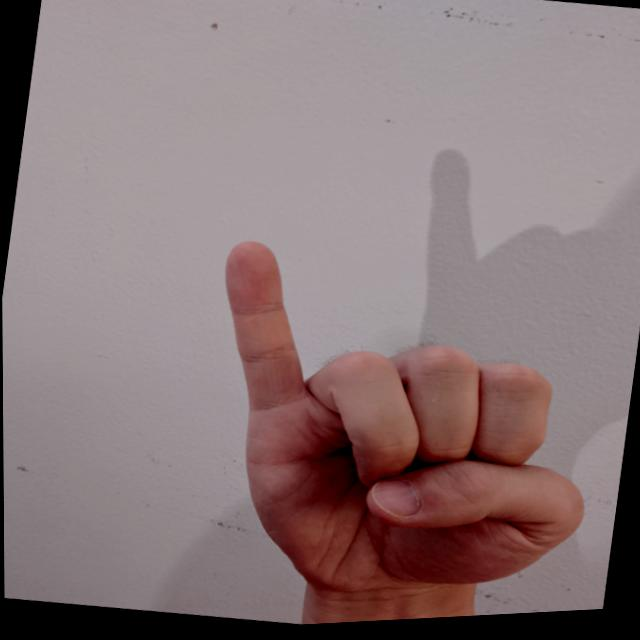I: (175, 218, 629, 632)
